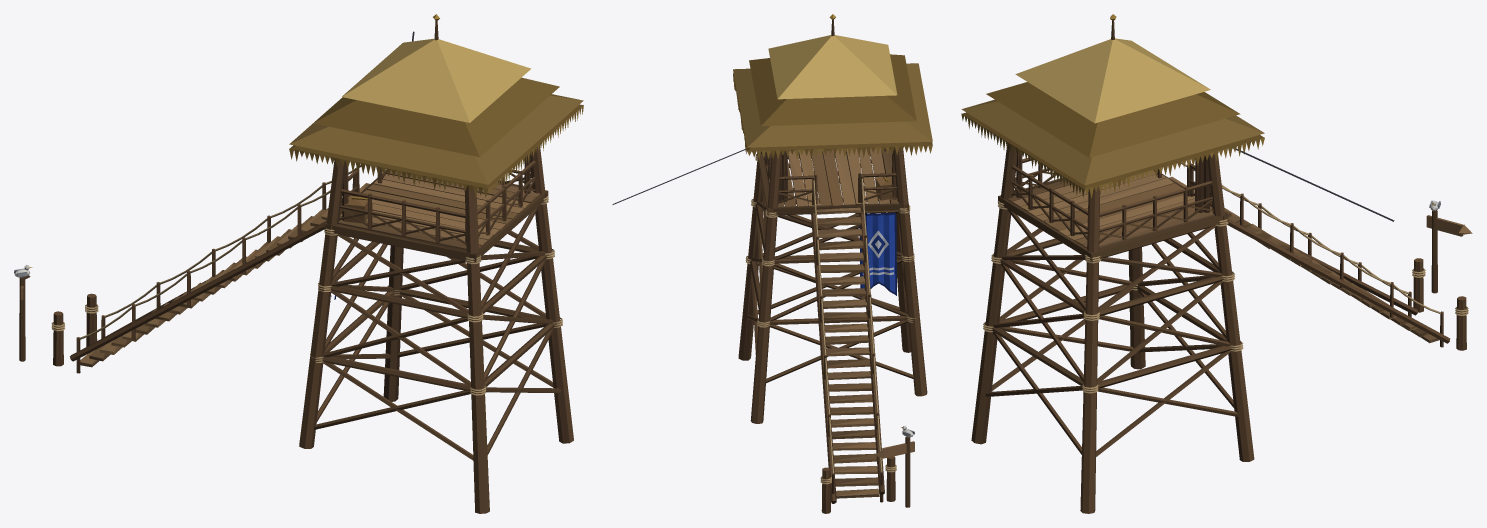
File: lookout.glb
The picture shows the model from 3 angles, left to right: view 1: azimuth 30°, elevation 25°; view 2: azimuth 150°, elevation 25°; view 3: azimuth 270°, elevation 25°; orthographic projection. The views are drawn at different scales.
Parts seen in each view (by area): view 1: lookout; view 2: lookout; view 3: lookout.
Part boxes in pixels (bbox=[...]): lookout: bbox=[14, 14, 583, 513]; lookout: bbox=[612, 14, 932, 513]; lookout: bbox=[961, 14, 1472, 513].
Bounding box in the file's own units: 12.92 × 14.07 × 14.77.
